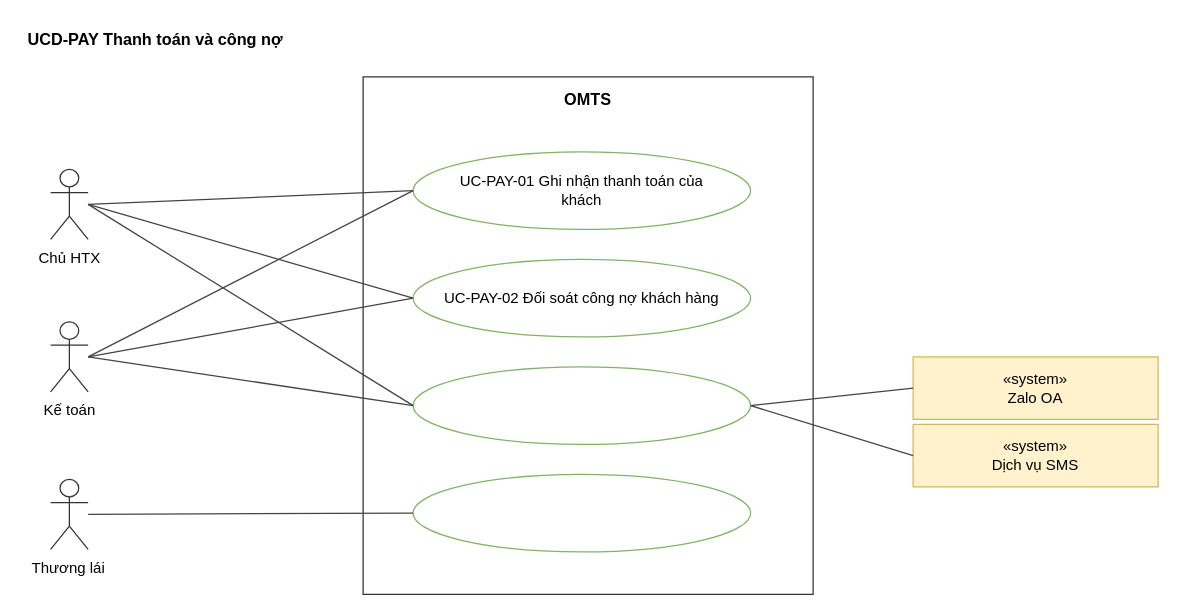
The diagram is 1181 pixels wide and 616 high, and some of its shapes have lost their labels. The shapes that lost their labels are listed below. From the top down, each one's centre as x and y in pixels, then its label:
At (x=581, y=405): "UC-PAY-04 Ghi nhận hoàn tiền cho khách".
At (x=581, y=512): "UC-PAY-03 Xem sao kê công nợ".
